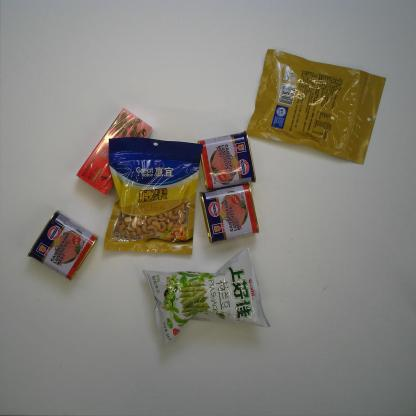Canned Food: (27, 210, 99, 280), (198, 184, 260, 245), (197, 129, 257, 192)
Dried Fruit: (246, 48, 387, 166), (103, 136, 204, 256)
Instant Drink: (76, 107, 154, 197)
Puffed Food: (142, 247, 272, 347)
